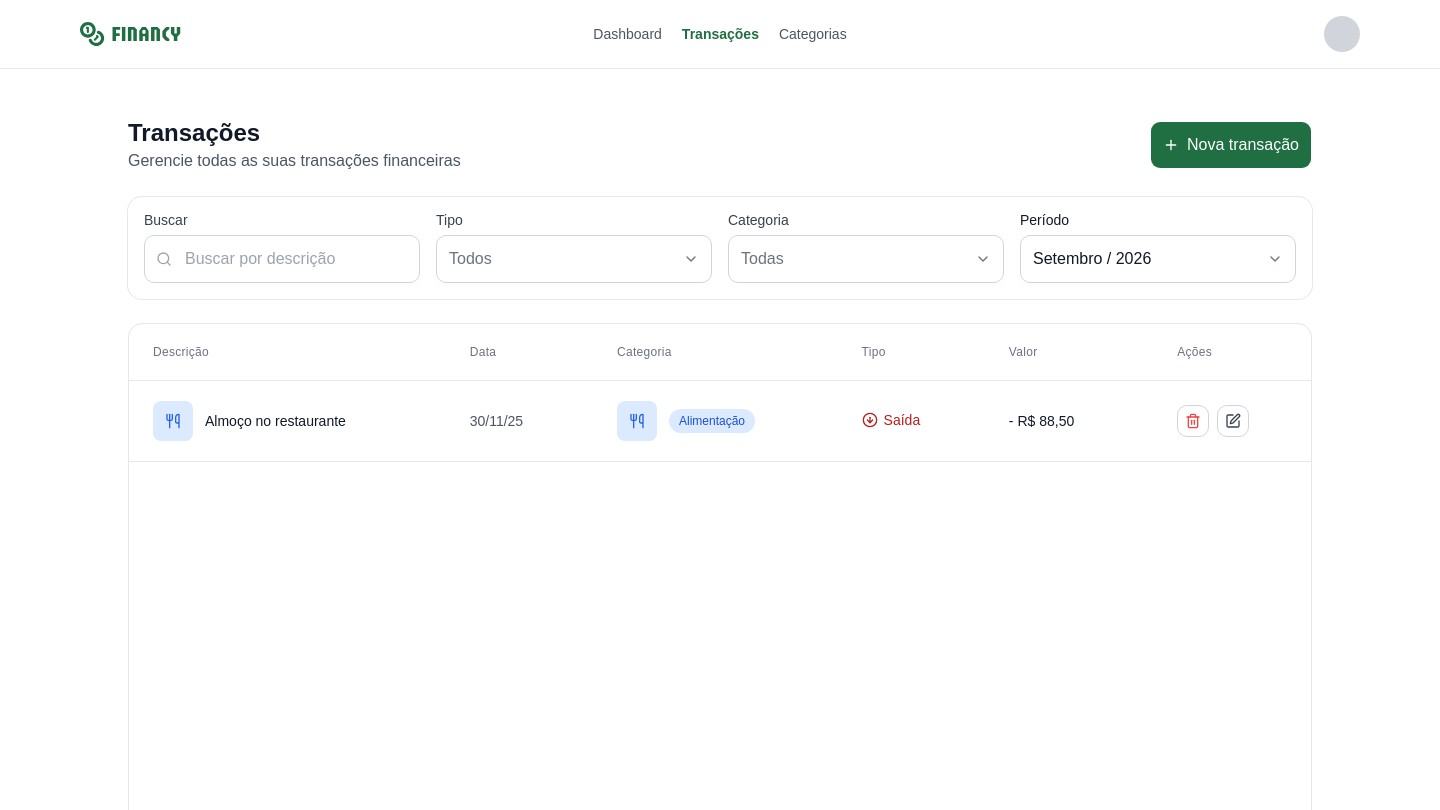
Test case: TransactionsPage › opens NewTransactionDialog when "Nova transação" is clicked
Click the button "Nova transação". click: coordinates (1231, 145)
box: left=1150, top=121, right=1312, bottom=169
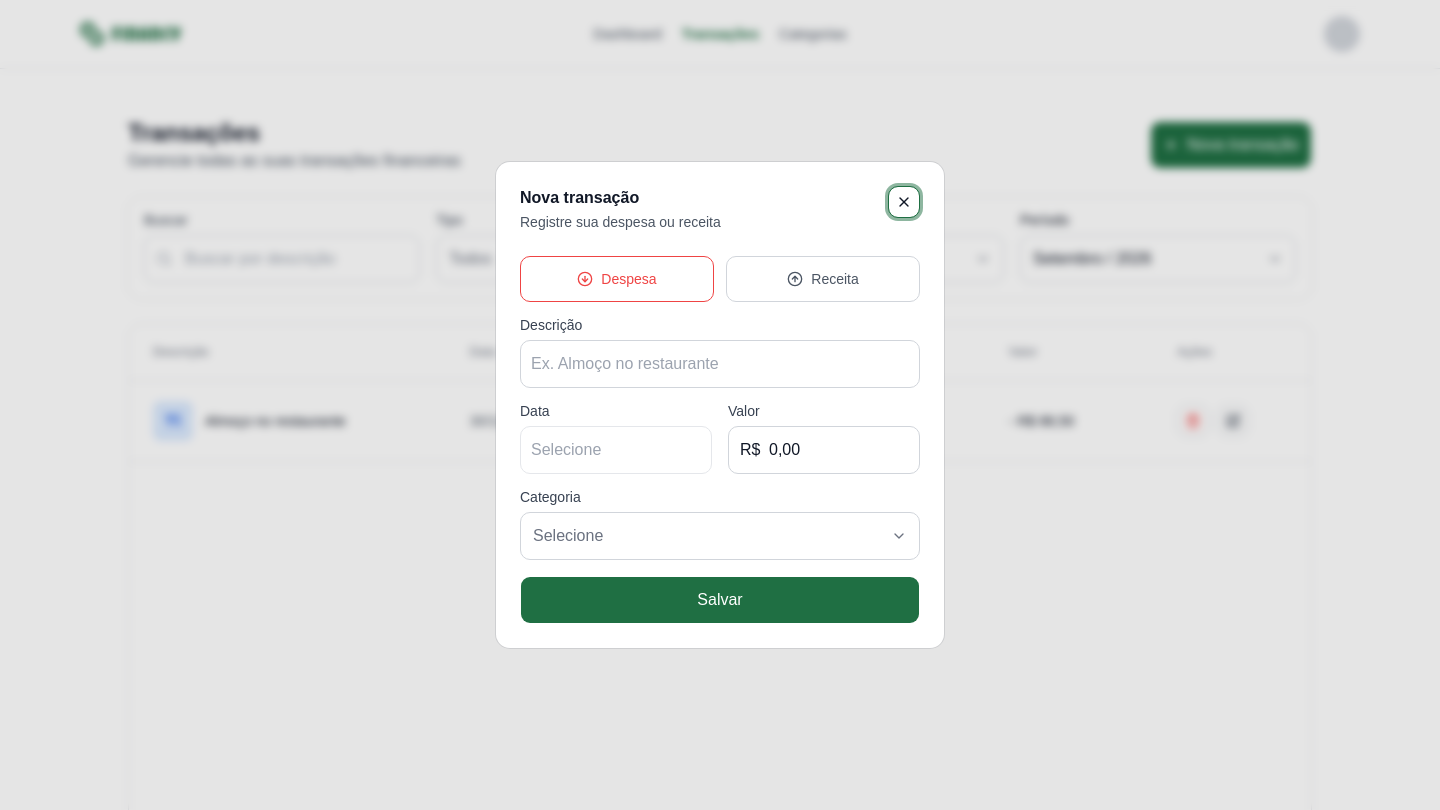
Now the heading "Nova transação" is shown, box left=520, top=189, right=639, bottom=206
